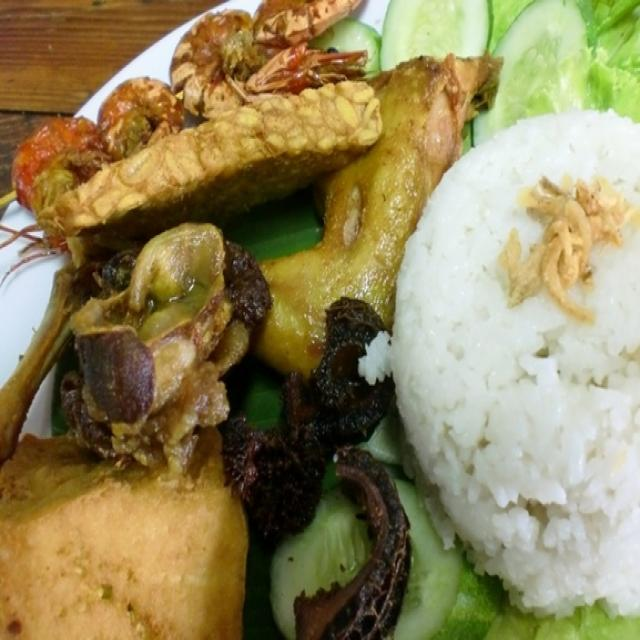米饭主食: (20, 27, 618, 604)
